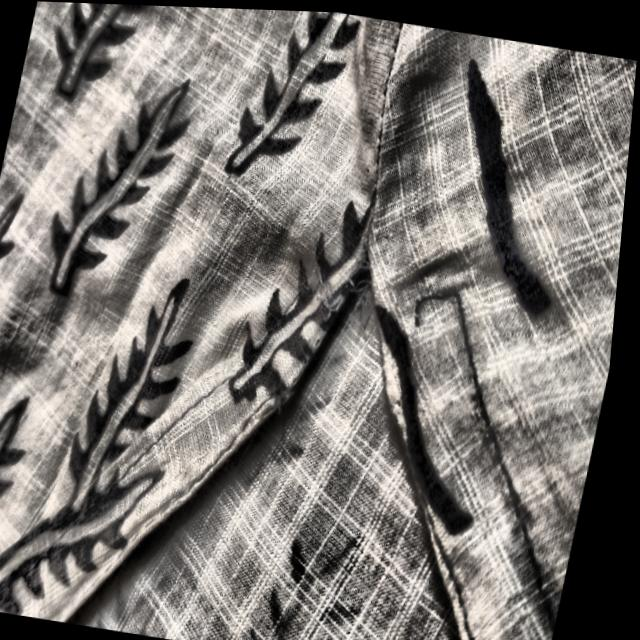Stitch: (274, 238, 398, 369), (396, 275, 491, 346)
